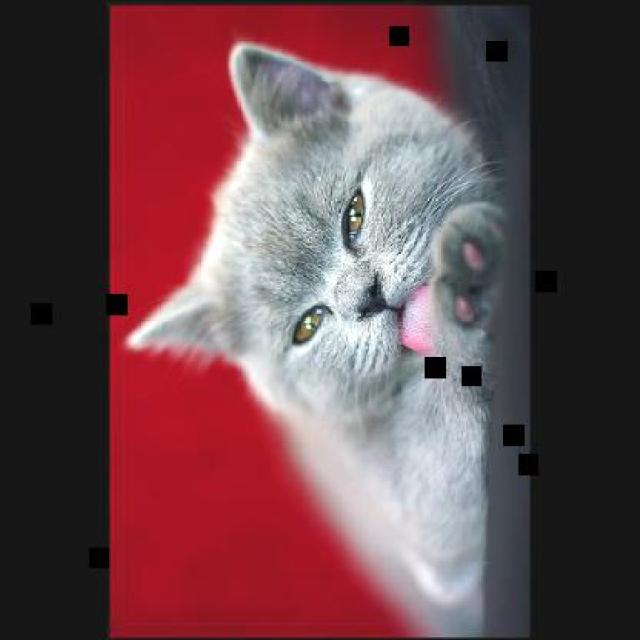unauthorized: (123, 37, 508, 637)
